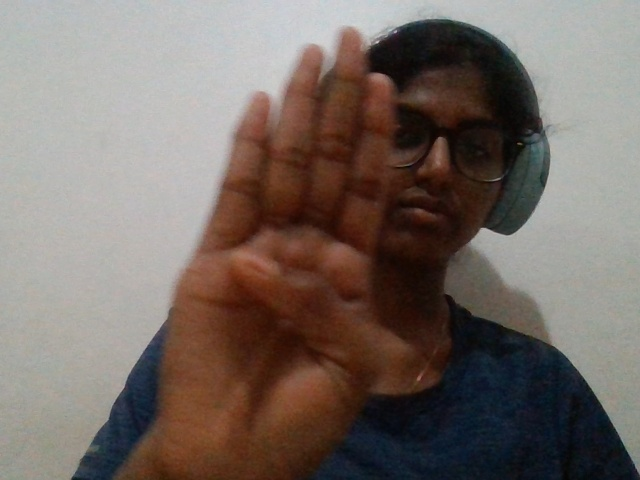B: (103, 13, 411, 480)
